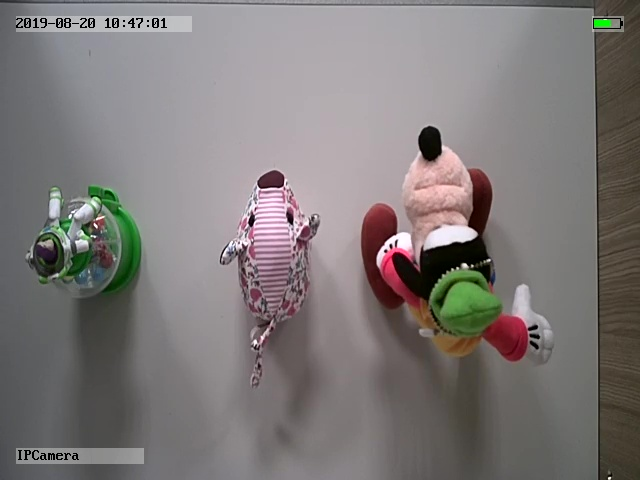buzz: (26, 182, 147, 303)
goofy: (358, 124, 556, 369)
pig: (215, 168, 328, 391)
